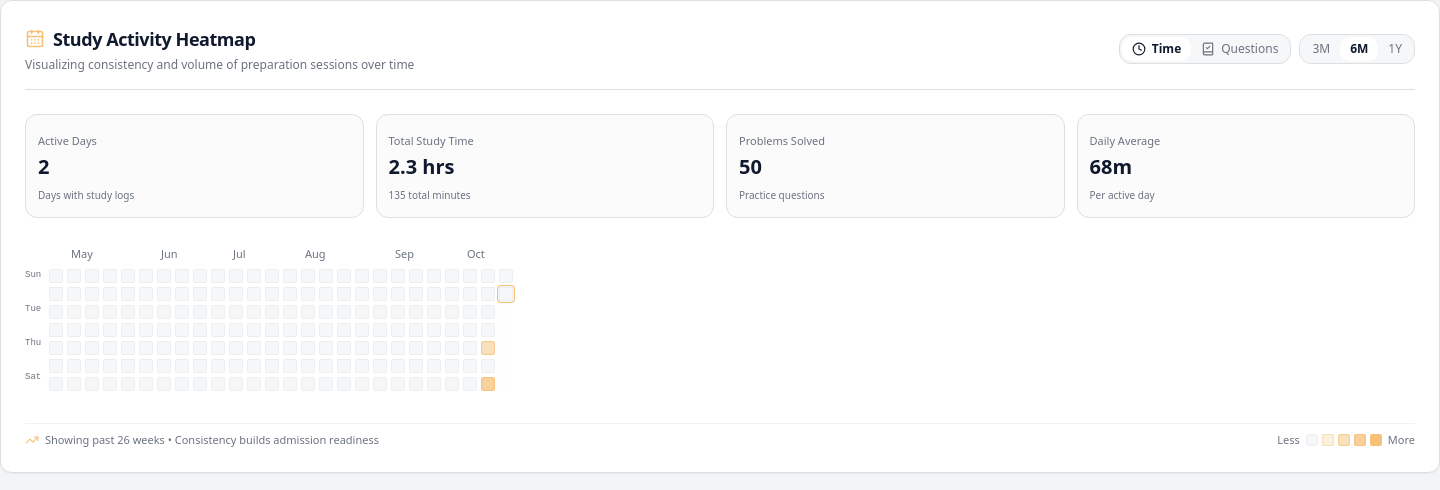
Test case: ActivityHeatmap › allows switching time range intervals
This screenshot has width=1440, height=490.
Click the button named "Show 3M range": (1321, 49) [1302,37,1340,61]
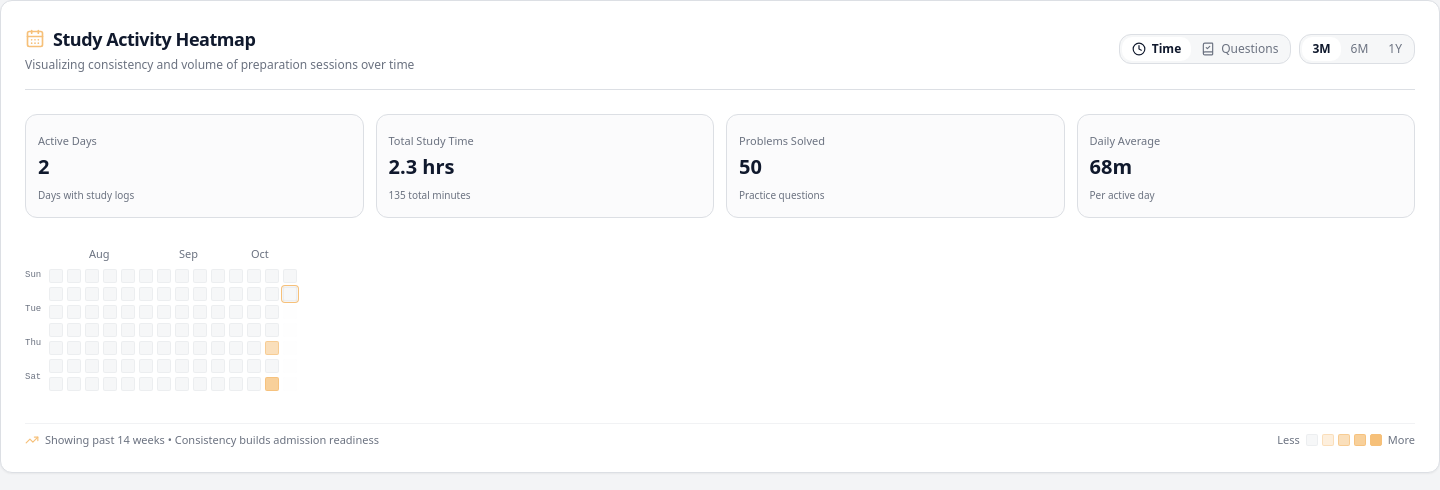
Result: the text "Showing past 14 weeks" is shown at [45,432,379,448]
Click the button named "Show 1Y range": (1395, 49) [1378,37,1412,61]
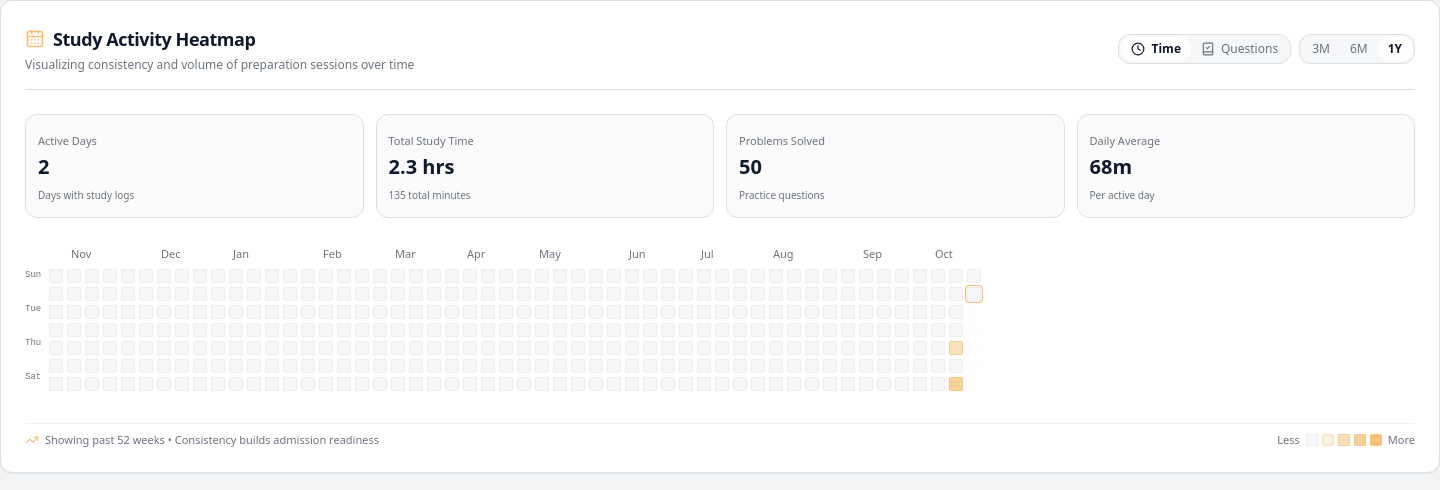
Result: the text "Showing past 52 weeks" is shown at [45,432,379,448]
